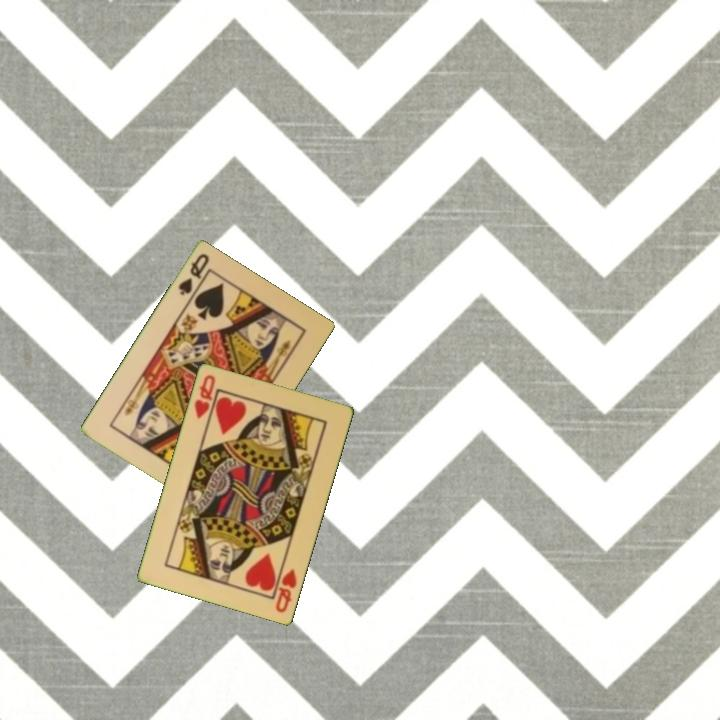Qh: (272, 565, 300, 616), (191, 371, 219, 422)
Qs: (175, 250, 212, 298)
